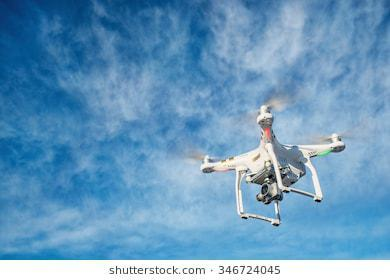drone: (177, 90, 370, 229)
